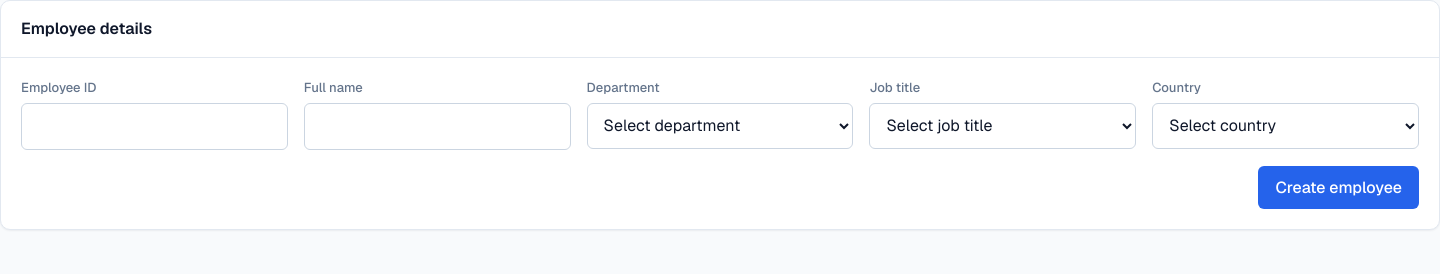
Test: EmployeeForm › shows validation errors when required fields are missing
Click the button "Create employee" at (1339, 188), box [1258,166,1419,210]
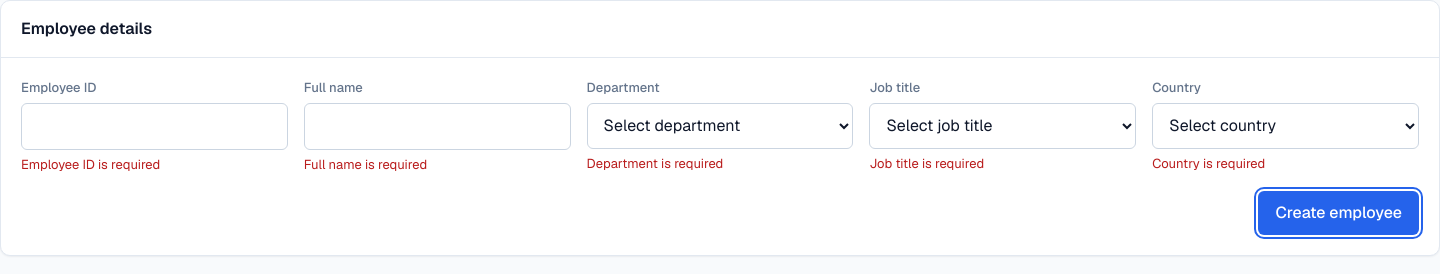
Check: the text "Employee ID is required" is shown, box [21,156,160,174]
Check: the text "Full name is required" is shown, box [304,156,427,174]
